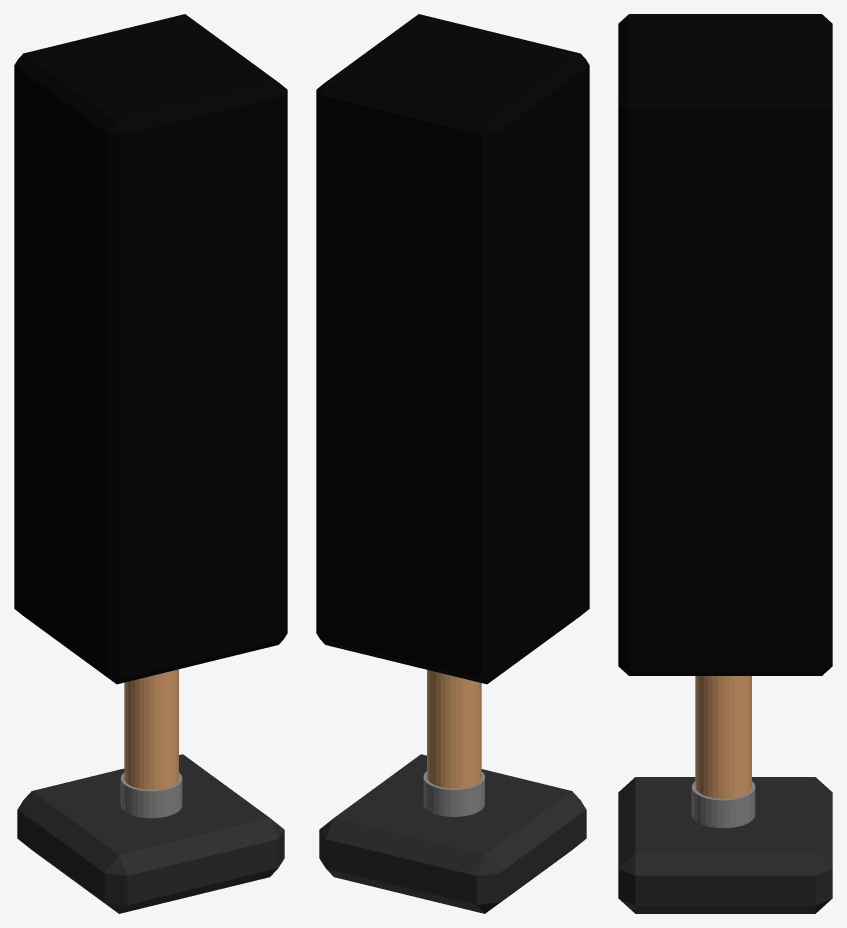
Rendered from uploads_files_3115689_obstacle2.fbx.
3 views of the same model, side by side, from view 1: azimuth 30°, elevation 25°; view 2: azimuth 150°, elevation 25°; view 3: azimuth 270°, elevation 25° (orthographic). The views are drawn at different scales.
Parts seen in each view (by area): view 1: Cube.002, Cube.004, Cylinder.001, Cylinder.002; view 2: Cube.002, Cube.004, Cylinder.001, Cylinder.002; view 3: Cube.002, Cube.004, Cylinder.001, Cylinder.002.
Boxes of the visible parts, bbox=[...] form: Cube.002: bbox=[14, 14, 287, 684]; Cube.004: bbox=[17, 754, 284, 913]; Cylinder.001: bbox=[124, 669, 178, 789]; Cylinder.002: bbox=[120, 772, 182, 818]; Cube.002: bbox=[316, 14, 589, 684]; Cube.004: bbox=[319, 754, 586, 913]; Cylinder.001: bbox=[427, 670, 481, 788]; Cylinder.002: bbox=[423, 771, 484, 816]; Cube.002: bbox=[618, 14, 832, 675]; Cube.004: bbox=[618, 777, 832, 913]; Cylinder.001: bbox=[695, 676, 751, 798]; Cylinder.002: bbox=[691, 781, 755, 828].
Size of the model in its own units: 200 by 846 by 200.
